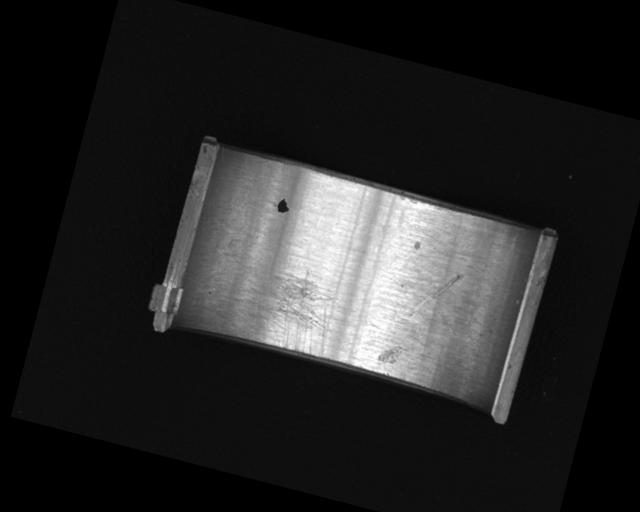blot: (275, 196, 292, 215)
bruise: (375, 341, 405, 368), (412, 238, 422, 251)
nick: (409, 265, 462, 328)
scratch: (204, 248, 343, 359)
